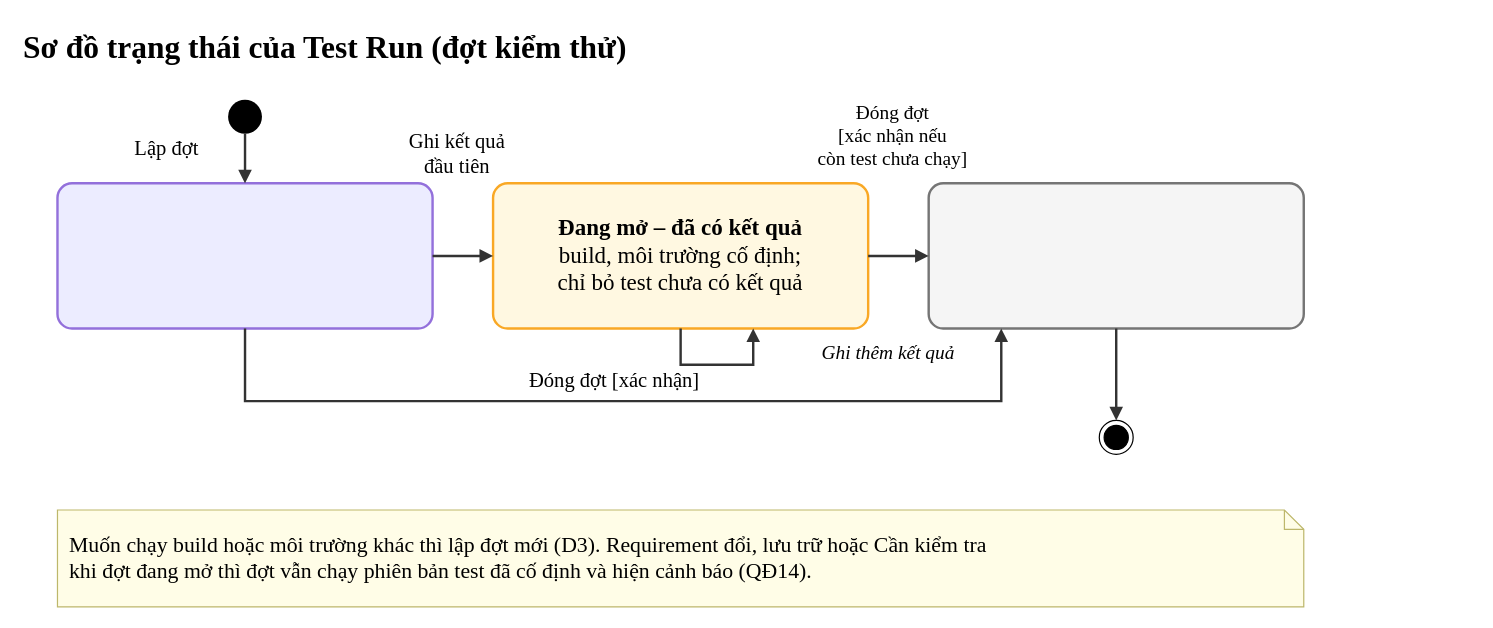
Some shapes in this 1493 by 628 pixel diagram are drawn without their labels. The centre of each missing label's shape, as x and y in pixels:
Đang mở – chưa có kết quả sửa được build, môi trường; thêm, bỏ test; phân công: [244,255]
Đã đóng không ghi thêm kết quả; test chưa chạy tính chưa chạy: [1115,255]
